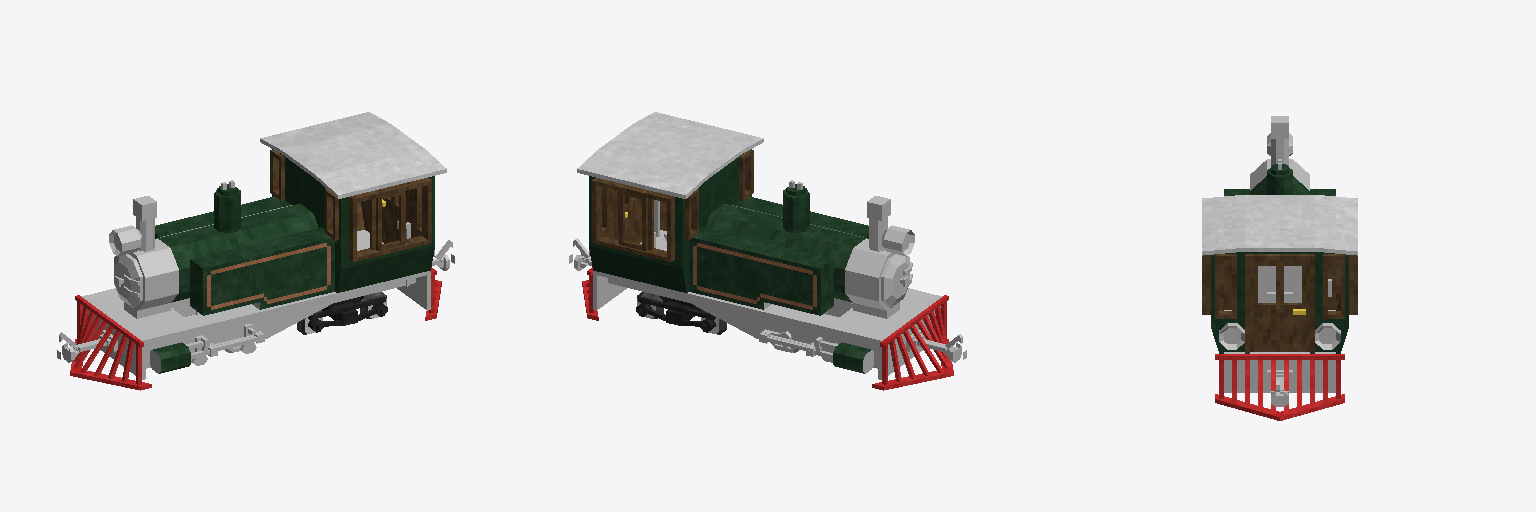
The picture shows the model from 3 angles: view 1: azimuth 30°, elevation 25°; view 2: azimuth 150°, elevation 25°; view 3: azimuth 270°, elevation 25°; orthographic projection.
Visible parts, largest first — view 1: FRAME.cab, FRAME.003, FRAME, FRAME.002, COUPLER_ENGAGED_FRONT_1_TOGGLE_LABEL_Uncouple, BOGEY_REAR, FRAME.005, STEAM_CHEST_1, DOOR_2_CONNECTING, WIDGET_1_TOGGLE_CG_headfront_LABEL_Front^Headlight, FRAME.004, COUPLER_ENGAGED_REAR_2_TOGGLE_LABEL_Uncouple; view 2: FRAME.cab, FRAME.003, FRAME, FRAME.002, COUPLER_ENGAGED_FRONT_1_TOGGLE_LABEL_Uncouple, BOGEY_REAR, FRAME.005, STEAM_CHEST_1, DOOR_2_CONNECTING, WIDGET_1_TOGGLE_CG_headfront_LABEL_Front^Headlight, COUPLER_ENGAGED_REAR_2_TOGGLE_LABEL_Uncouple, FRAME.004; view 3: FRAME.cab, COUPLER_ENGAGED_REAR_2_TOGGLE_LABEL_Uncouple, DOOR_2_CONNECTING, FRAME.002, FRAME, FRAME.005, FRAME.004.
Boxes of the visible parts, <box> form: FRAME.cab: <box>260,112,446,292</box>; FRAME.003: <box>155,196,334,315</box>; FRAME: <box>81,230,430,379</box>; FRAME.002: <box>114,204,318,318</box>; COUPLER_ENGAGED_FRONT_1_TOGGLE_LABEL_Uncouple: <box>57,295,151,390</box>; BOGEY_REAR: <box>308,297,387,332</box>; FRAME.005: <box>214,184,240,232</box>; STEAM_CHEST_1: <box>150,341,209,373</box>; DOOR_2_CONNECTING: <box>382,190,407,243</box>; WIDGET_1_TOGGLE_CG_headfront_LABEL_Front^Headlight: <box>109,225,141,256</box>; FRAME.004: <box>136,196,154,251</box>; COUPLER_ENGAGED_REAR_2_TOGGLE_LABEL_Uncouple: <box>425,254,454,320</box>; FRAME.cab: <box>577,112,763,292</box>; FRAME.003: <box>689,196,868,315</box>; FRAME: <box>593,230,942,379</box>; FRAME.002: <box>705,204,909,318</box>; COUPLER_ENGAGED_FRONT_1_TOGGLE_LABEL_Uncouple: <box>872,295,966,390</box>; BOGEY_REAR: <box>636,297,715,332</box>; FRAME.005: <box>783,184,809,232</box>; STEAM_CHEST_1: <box>814,341,873,373</box>; DOOR_2_CONNECTING: <box>616,190,641,243</box>; WIDGET_1_TOGGLE_CG_headfront_LABEL_Front^Headlight: <box>882,225,914,256</box>; COUPLER_ENGAGED_REAR_2_TOGGLE_LABEL_Uncouple: <box>569,253,598,320</box>; FRAME.004: <box>869,196,887,251</box>; FRAME.cab: <box>1202,195,1357,353</box>; COUPLER_ENGAGED_REAR_2_TOGGLE_LABEL_Uncouple: <box>1215,354,1344,420</box>; DOOR_2_CONNECTING: <box>1250,260,1309,351</box>; FRAME.002: <box>1250,159,1309,302</box>; FRAME: <box>1224,310,1335,392</box>; FRAME.005: <box>1267,164,1292,194</box>; FRAME.004: <box>1271,116,1288,165</box>.
Size of the model in its own units: 6.56 by 2.62 by 2.25.
7 materials, 4 textured.